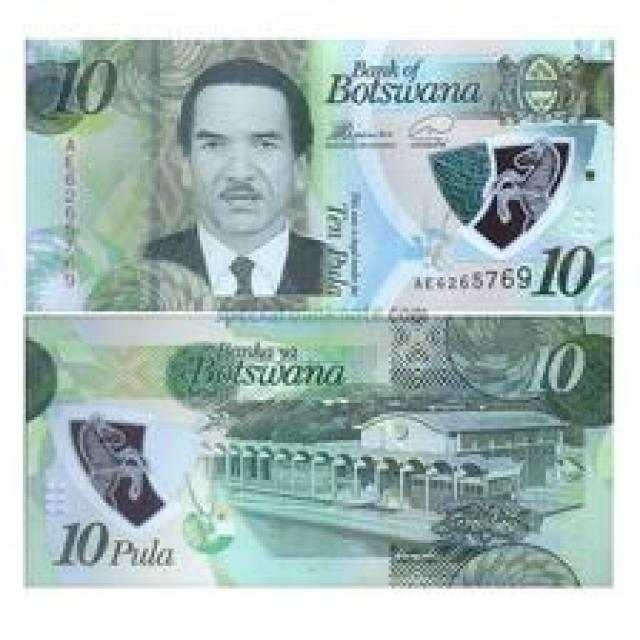banknote: (30, 37, 617, 307), (28, 321, 614, 586)
